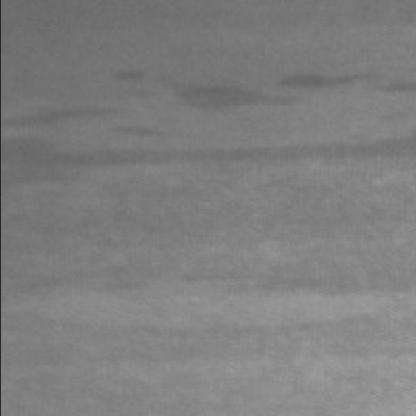inclusion: (0, 115, 410, 170), (21, 244, 412, 300), (110, 54, 378, 110)
